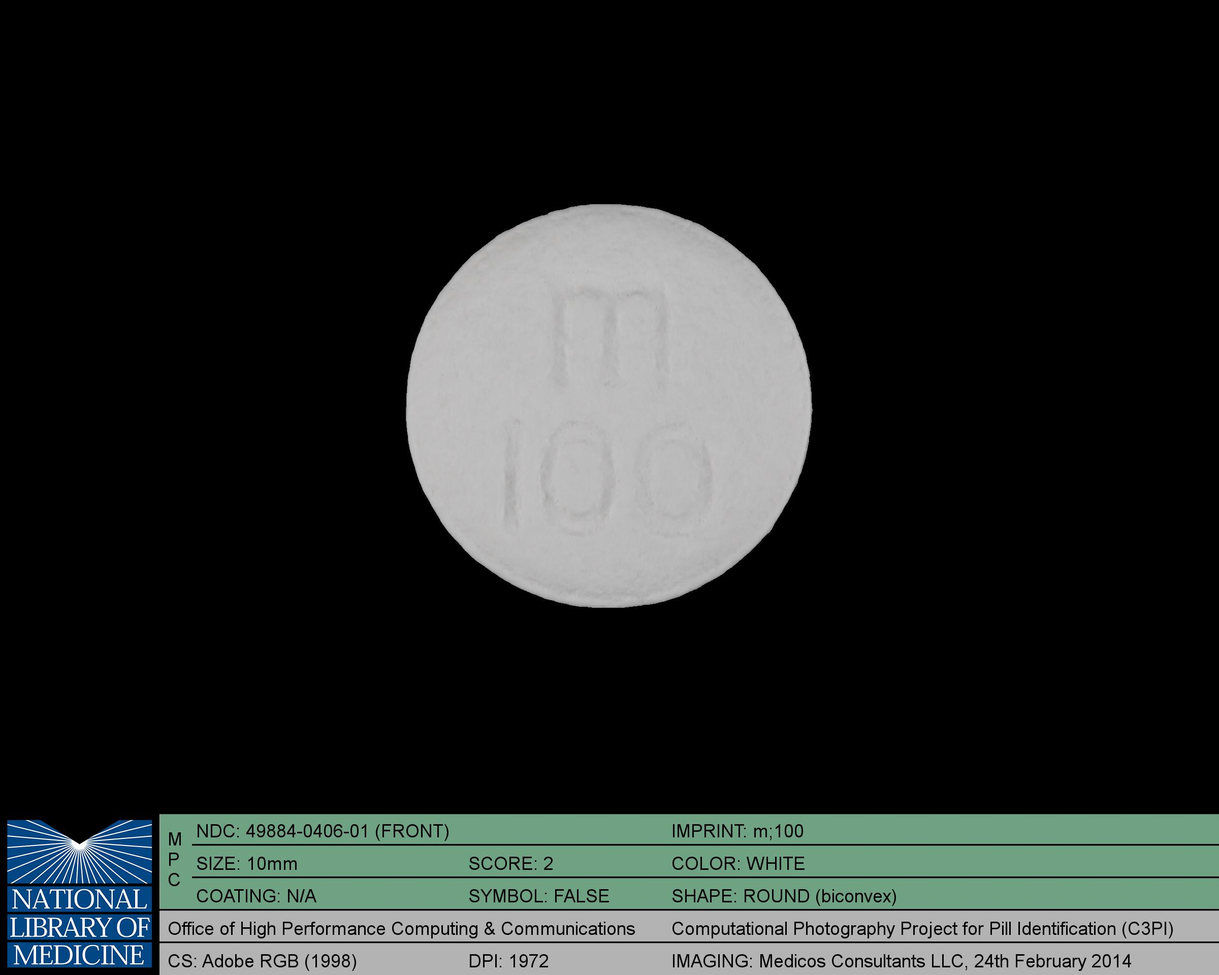Pill: (394, 191, 826, 618)
